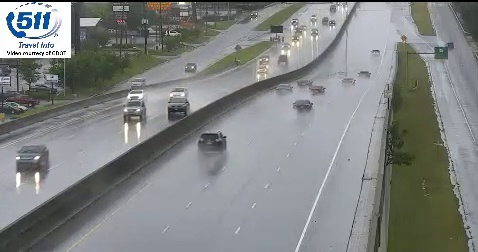car: (198, 132, 226, 151), (292, 99, 313, 111)
